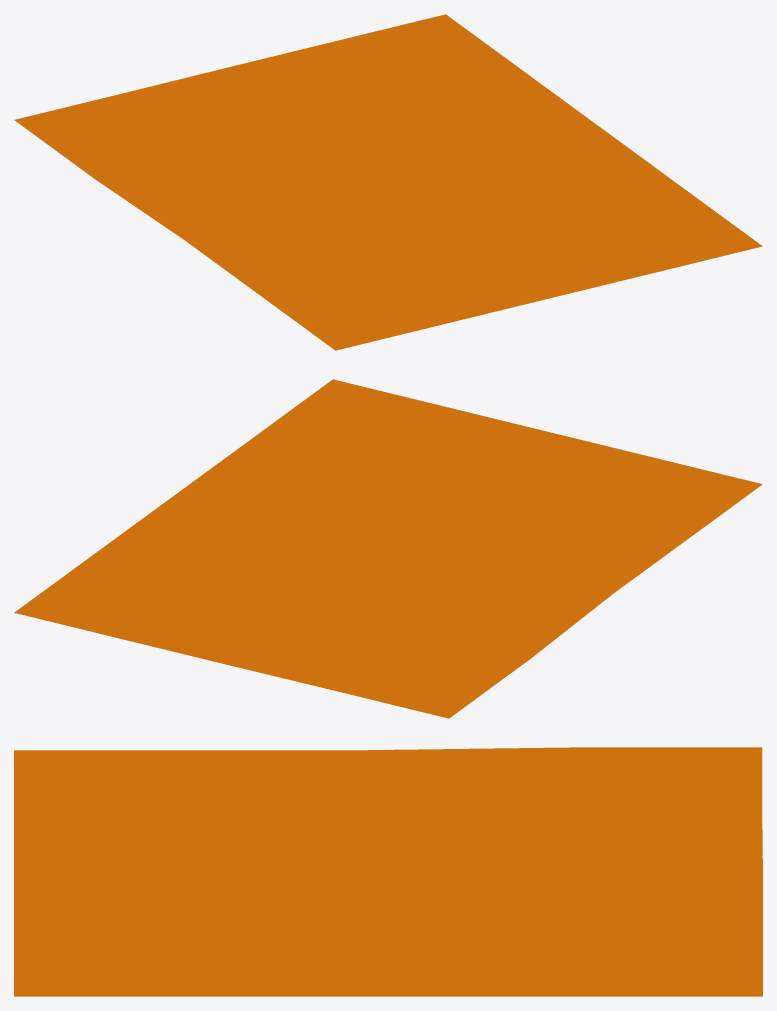
The model's file is grond.fbx.
The picture shows the model from 3 angles, top to bottom: view 1: azimuth 30°, elevation 25°; view 2: azimuth 150°, elevation 25°; view 3: azimuth 270°, elevation 25°; orthographic projection. The views are drawn at different scales.
Visible parts, largest first — view 1: grond; view 2: grond; view 3: grond.
Part boxes in pixels (box(x1,y1,x2,y2)): grond: box(14, 14, 762, 350); grond: box(14, 379, 762, 718); grond: box(14, 747, 762, 996).
Bounding box in the file's own units: 75690 × 0.0157 × 96196.
